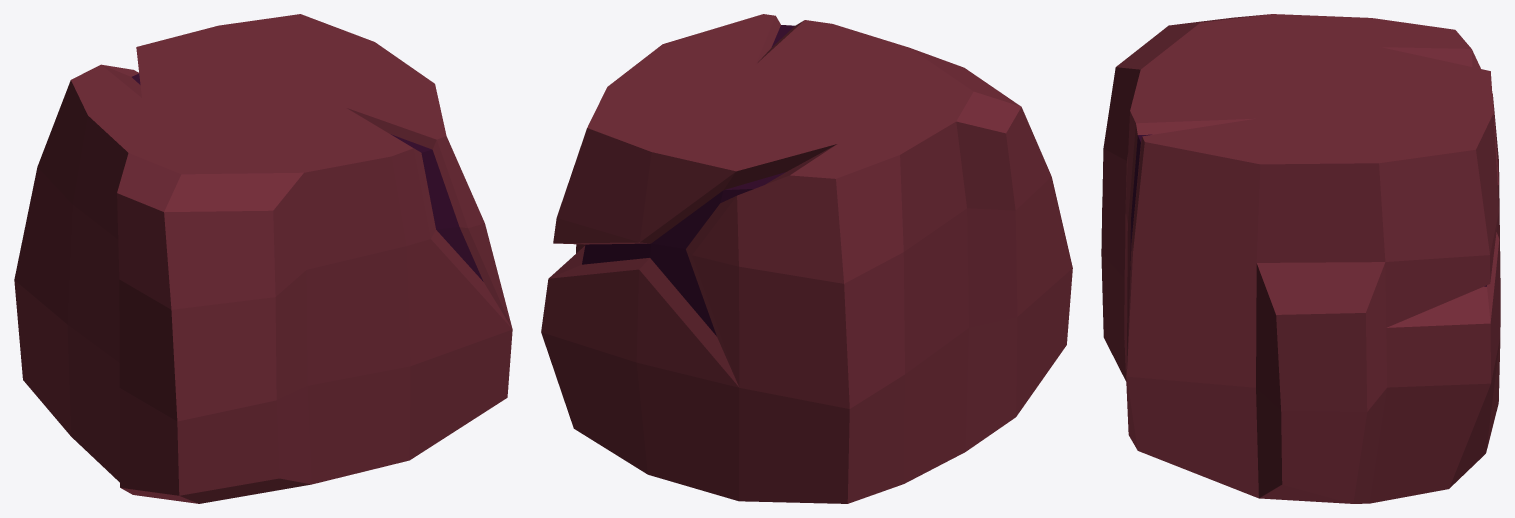
Rendered from dirt.glb.
3 views of the same model, side by side, from view 1: azimuth 30°, elevation 25°; view 2: azimuth 150°, elevation 25°; view 3: azimuth 270°, elevation 25° (orthographic). The views are drawn at different scales.
Parts seen in each view (by area): view 1: Dirt Block; view 2: Dirt Block; view 3: Dirt Block.
Boxes of the visible parts, bbox=[...] form: Dirt Block: bbox=[14, 14, 512, 503]; Dirt Block: bbox=[541, 14, 1072, 503]; Dirt Block: bbox=[1101, 14, 1500, 503].
Bounding box in the file's own units: 2.36 × 2.03 × 2.12.
Materials: 1 (1 with a texture image).
